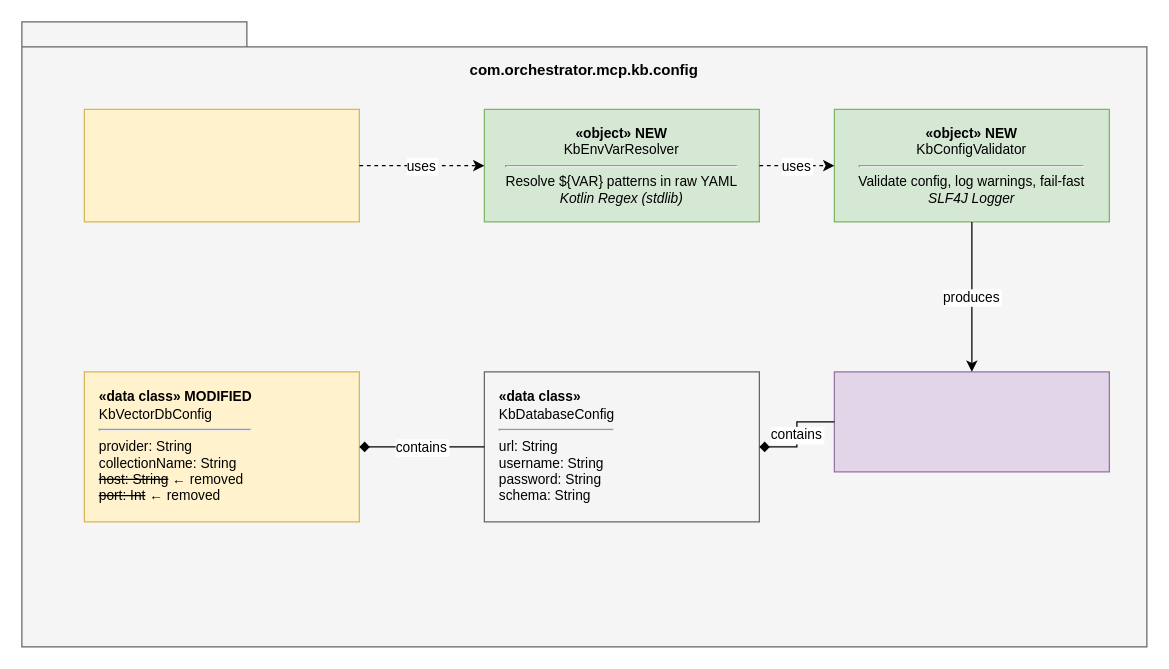
Image size: 1169x669. Some labels were removed from this diagram. The shapes that lost their labels are listed below. From the top down, each one's centre as x and y in pixels, then its label:
At point (221, 165): "«object» KbConfigLoader Orchestrate config loading pipeline kaml YAML parser".
At point (971, 421): "«data class» KbConfig kb: KbServerConfig".
